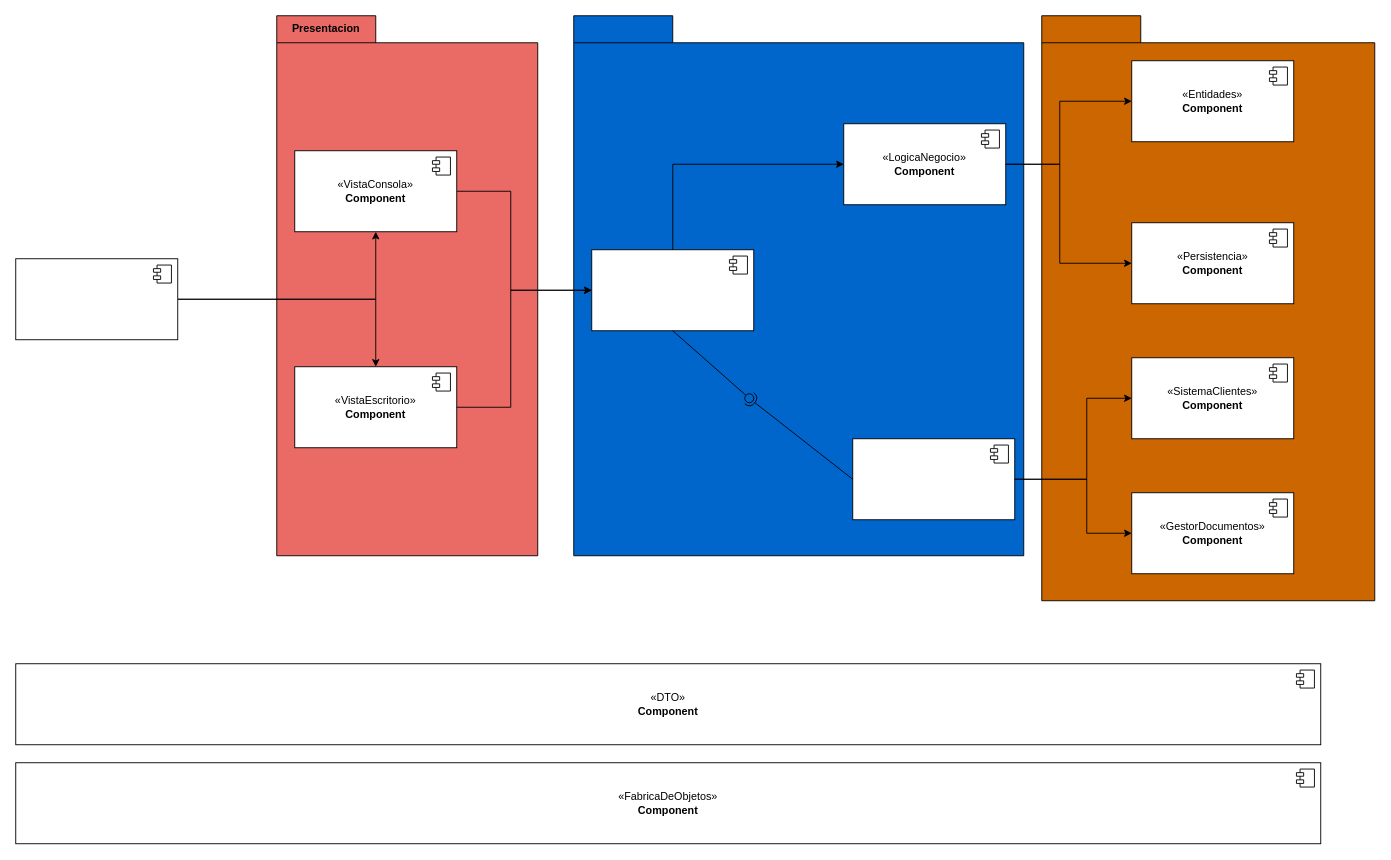
Some shapes in this 1391 by 860 pixel diagram are drawn without their labels. The box of each missing label's shape, as (x1, y1, x2, y2) in pixels:
Aplicacion: (573, 15, 1024, 556)
Infraestructura: (1041, 15, 1375, 601)
«Controlador» Component: (591, 249, 754, 331)
«Fachada» Component: (852, 438, 1015, 520)
«Inicio» Component: (15, 258, 178, 340)
